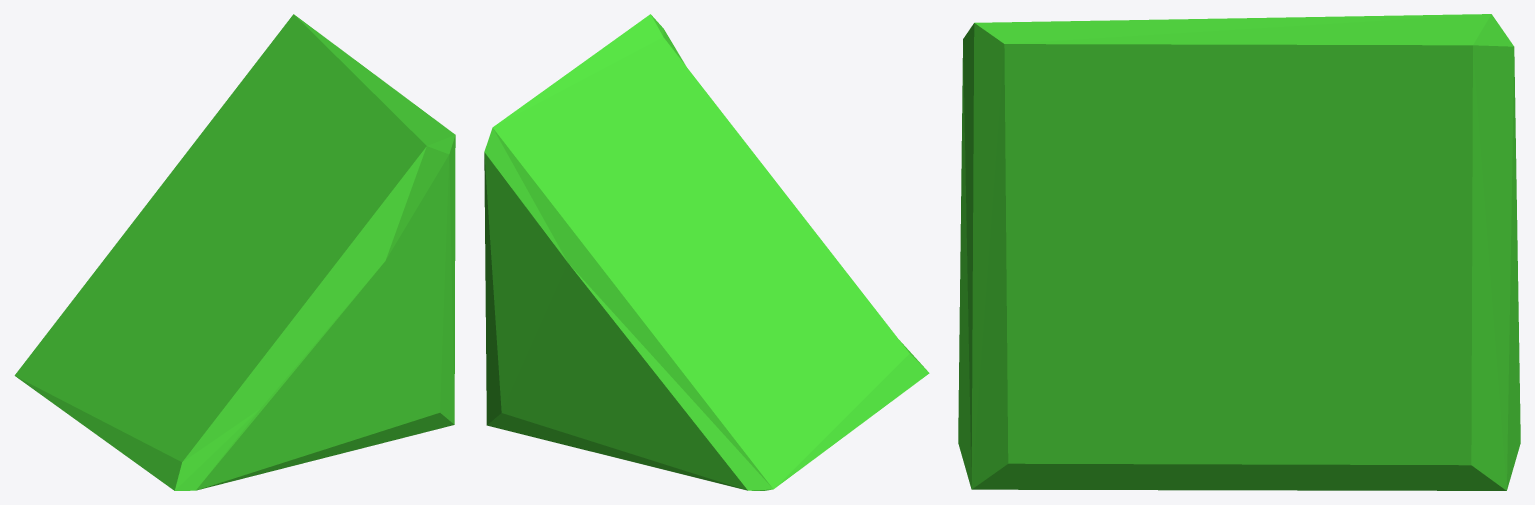
File: slope3.fbx
3 views of the same model, side by side, from view 1: azimuth 30°, elevation 25°; view 2: azimuth 150°, elevation 25°; view 3: azimuth 270°, elevation 25° (orthographic). The views are drawn at different scales.
Parts seen in each view (by area): view 1: slope.001; view 2: slope.001; view 3: slope.001.
Part boxes in pixels (x1,y1,x2,y2): slope.001: [14, 14, 455, 490]; slope.001: [484, 14, 929, 490]; slope.001: [958, 14, 1520, 490].
Bounding box in the file's own units: 191 × 191 × 199.
